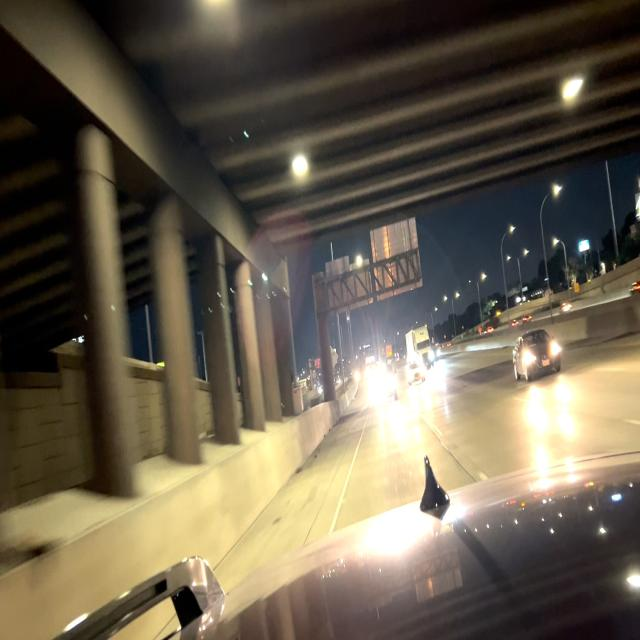back-of-sign: (324, 219, 424, 318)
